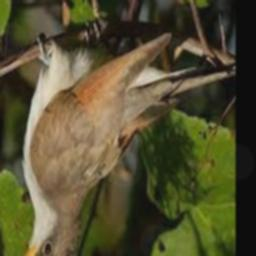Cuckoo: (11, 34, 195, 256)
